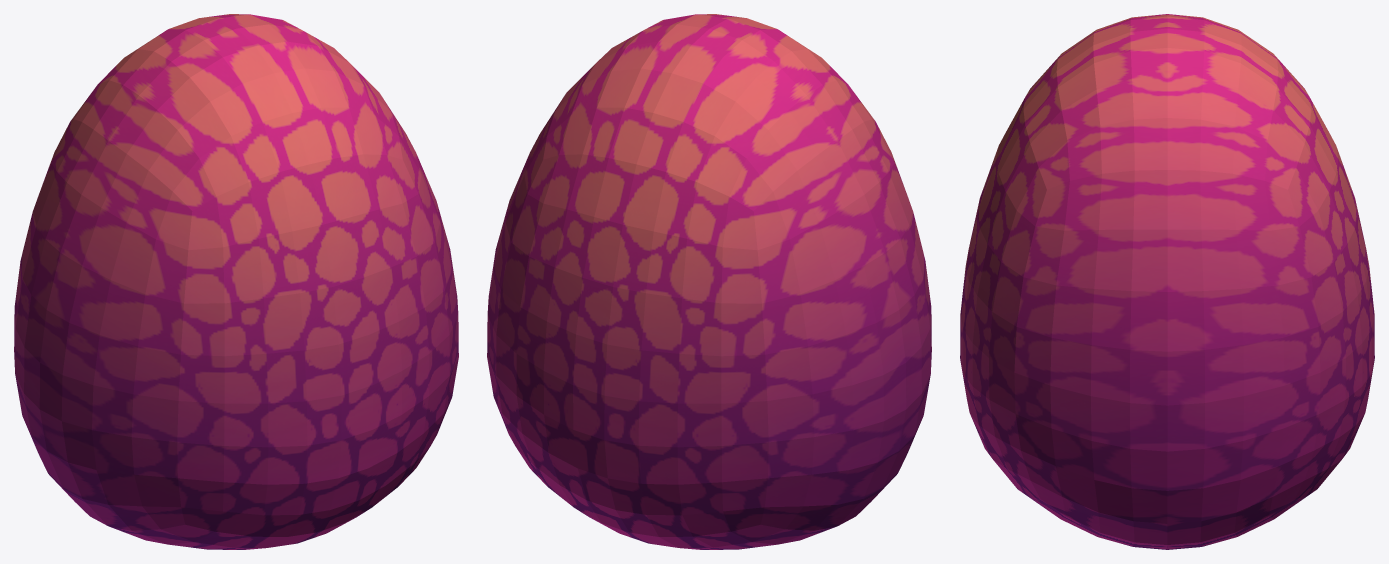
File: Egg_HotPink.fbx
3 views of the same model, side by side, from view 1: azimuth 30°, elevation 25°; view 2: azimuth 150°, elevation 25°; view 3: azimuth 270°, elevation 25° (orthographic).
Visible parts, largest first — view 1: Egg; view 2: Egg; view 3: Egg.
Part boxes in pixels (box(x1,y1,x2,y2)): Egg: box(14, 14, 458, 549); Egg: box(487, 14, 931, 549); Egg: box(960, 14, 1374, 549).
Size of the model in its own units: 210 by 256 by 195.
1 material, 1 textured.
